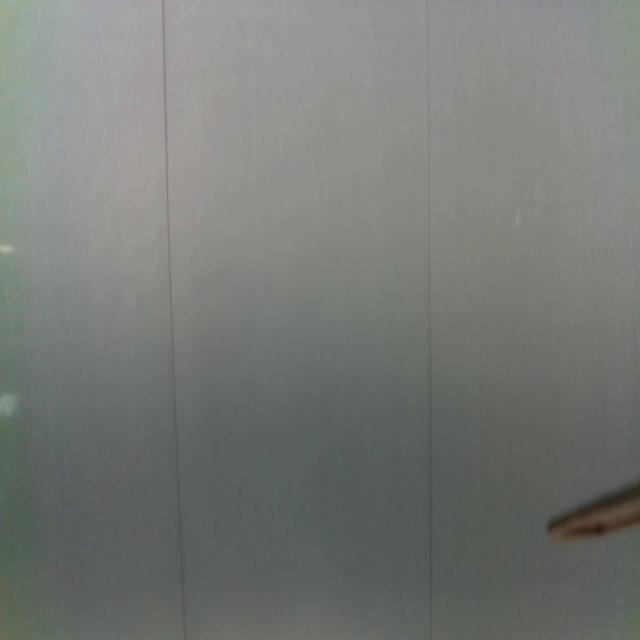crease: (160, 0, 187, 640), (425, 1, 435, 640)
